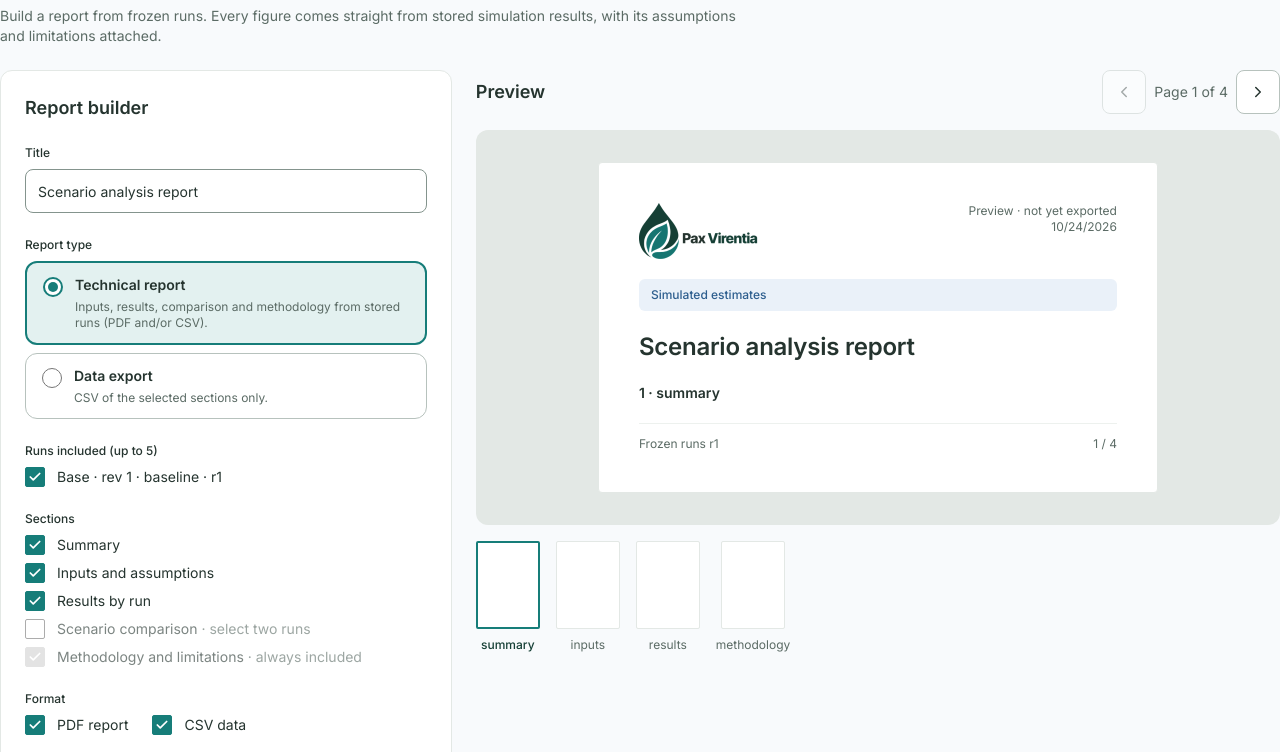
it: reports page › sends the selected sections and formats, and only confirms successful downloads
Click the text "Inputs and assumptions": (136, 573) [57,563,214,583]
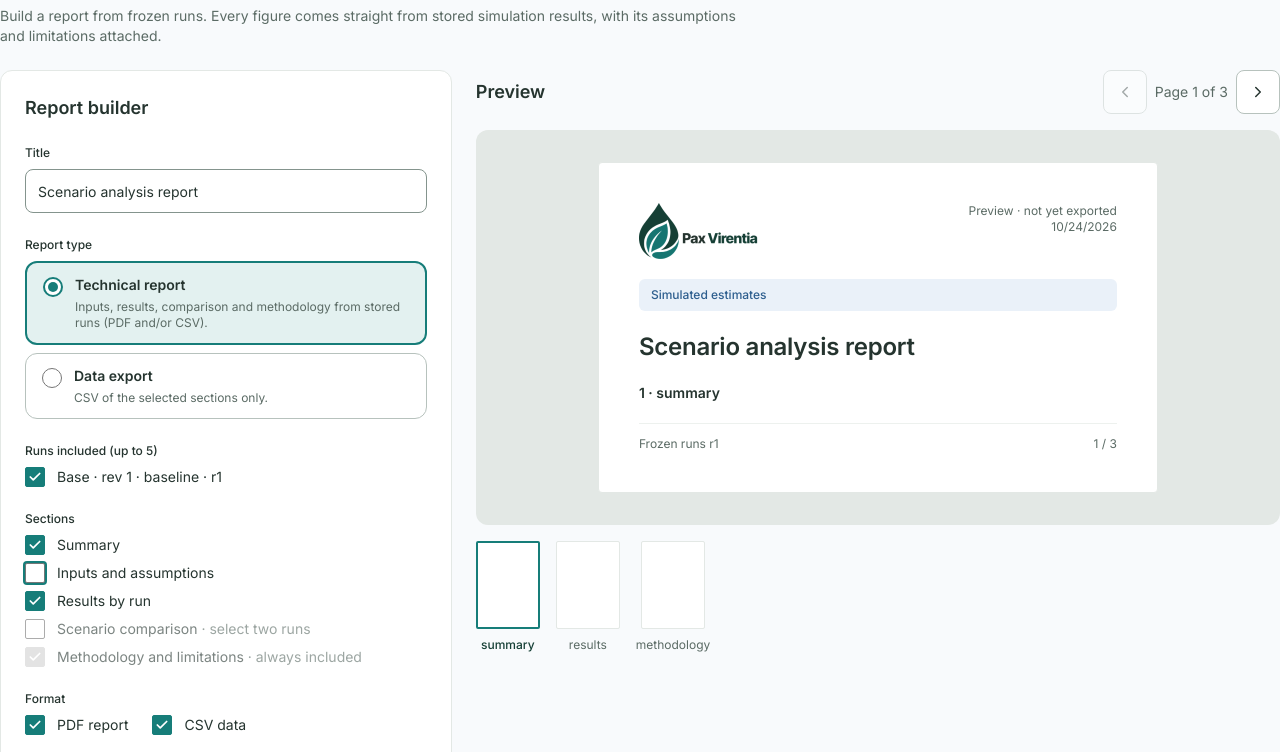
Click the text "CSV data": (215, 725) [184,715,246,735]
(page scrolled)
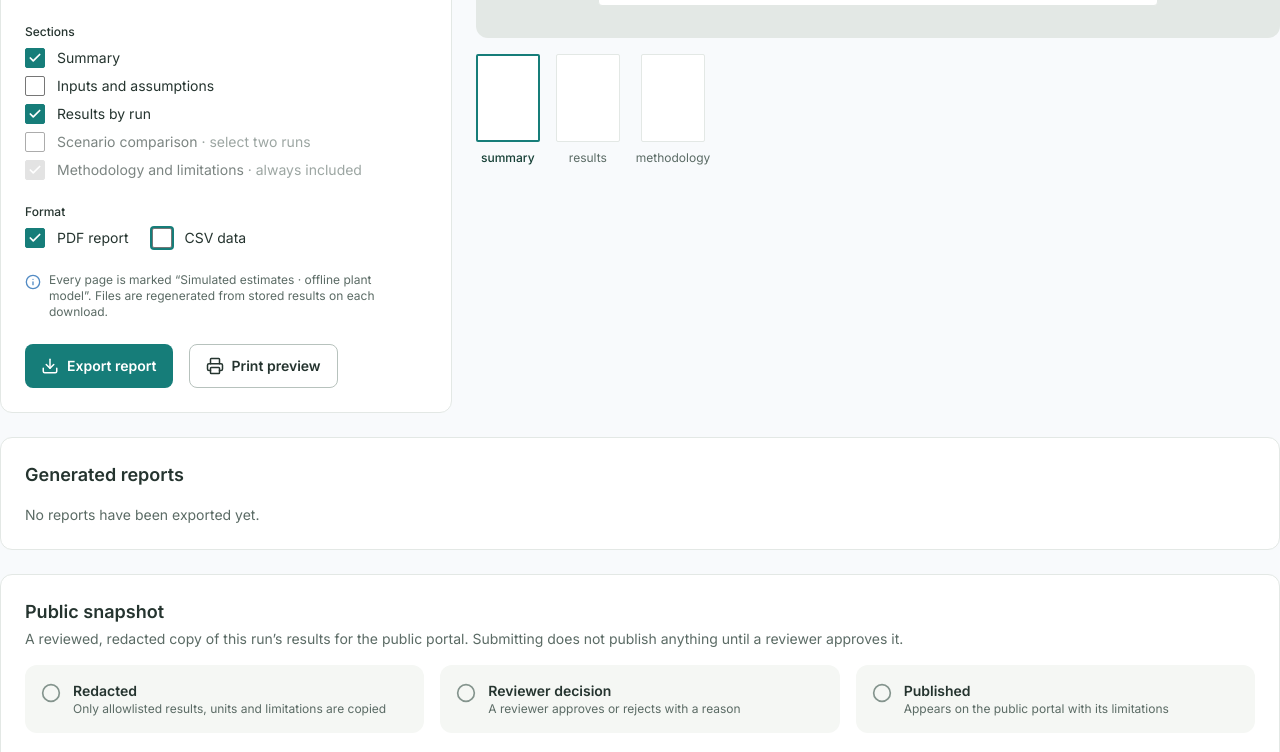
Click the button "Export report": (99, 366) [25,344,172,388]
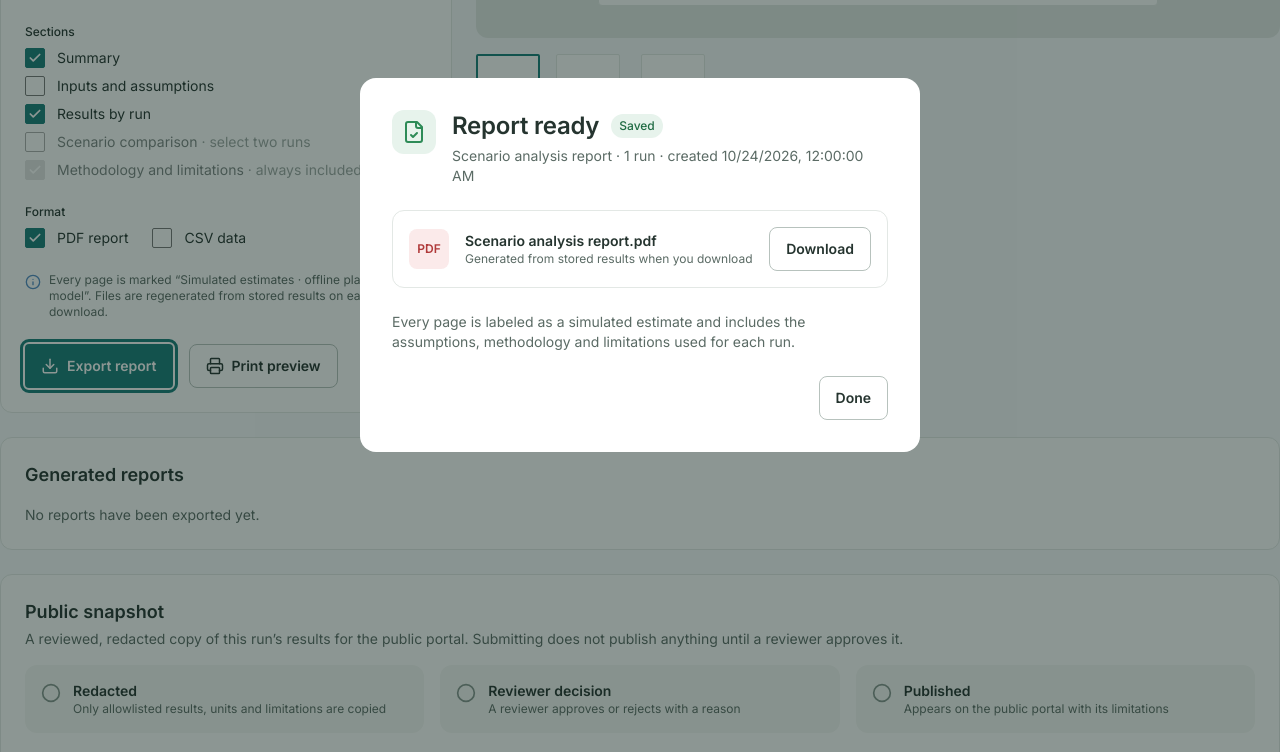
Result: the number of buttons "Download" is 1
Click the button "Download": (820, 249) [769,227,871,271]
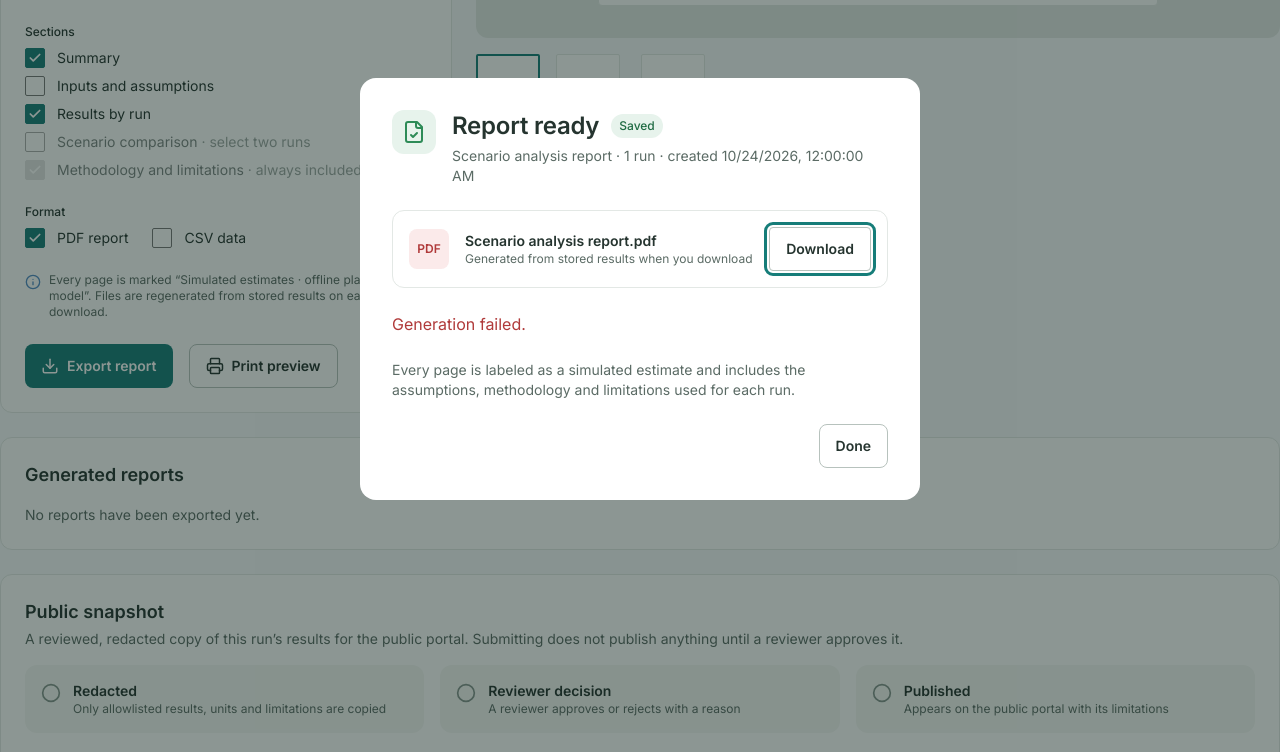
Result: the message reads "Generation failed." at [392,314,526,334]
